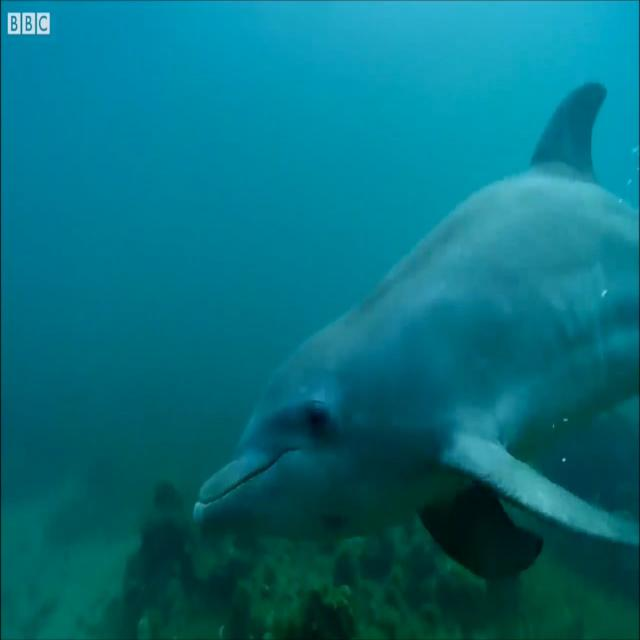Dolphin: (194, 86, 640, 574)
